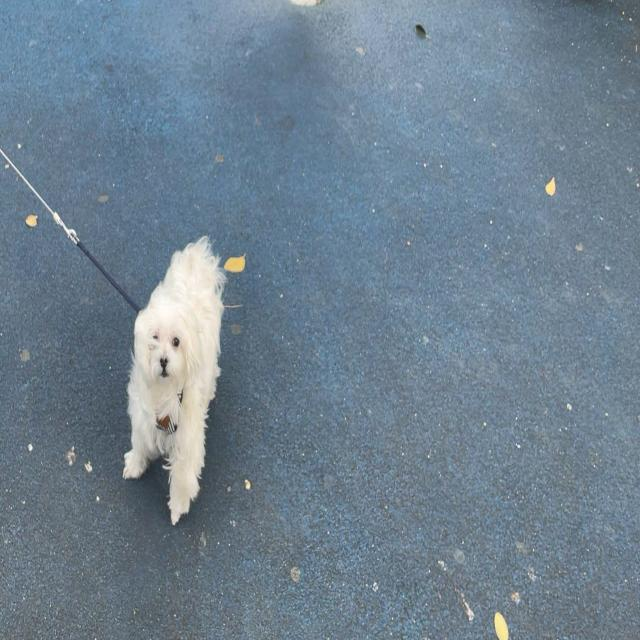Dog: (124, 238, 223, 522)
